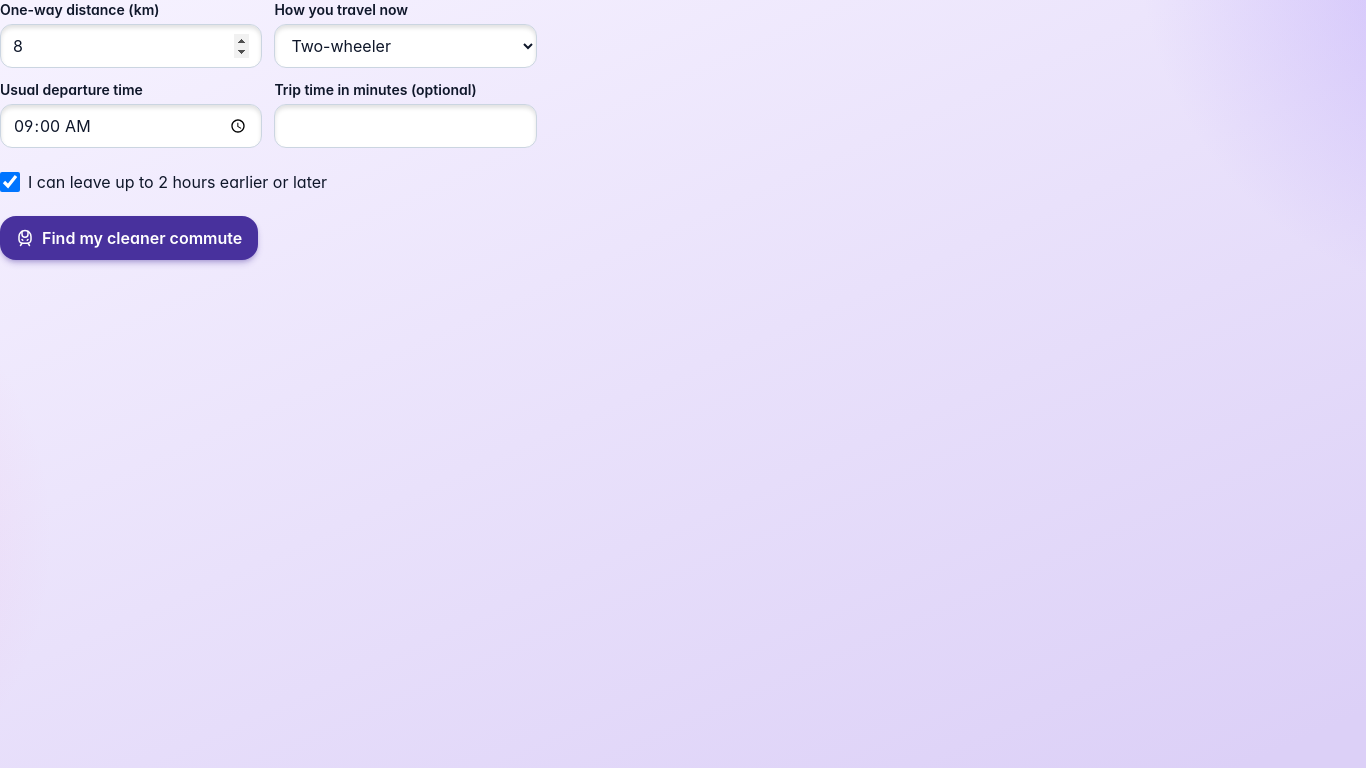
Test: CommutePlanner › recommends a cleaner option, explains the maths and logs impact
The image size is (1366, 768).
Later steps or results of the test are not shown.
Click the button "Find my cleaner commute".
click(129, 238)  # box top-left (0, 216), bottom-right (258, 260)
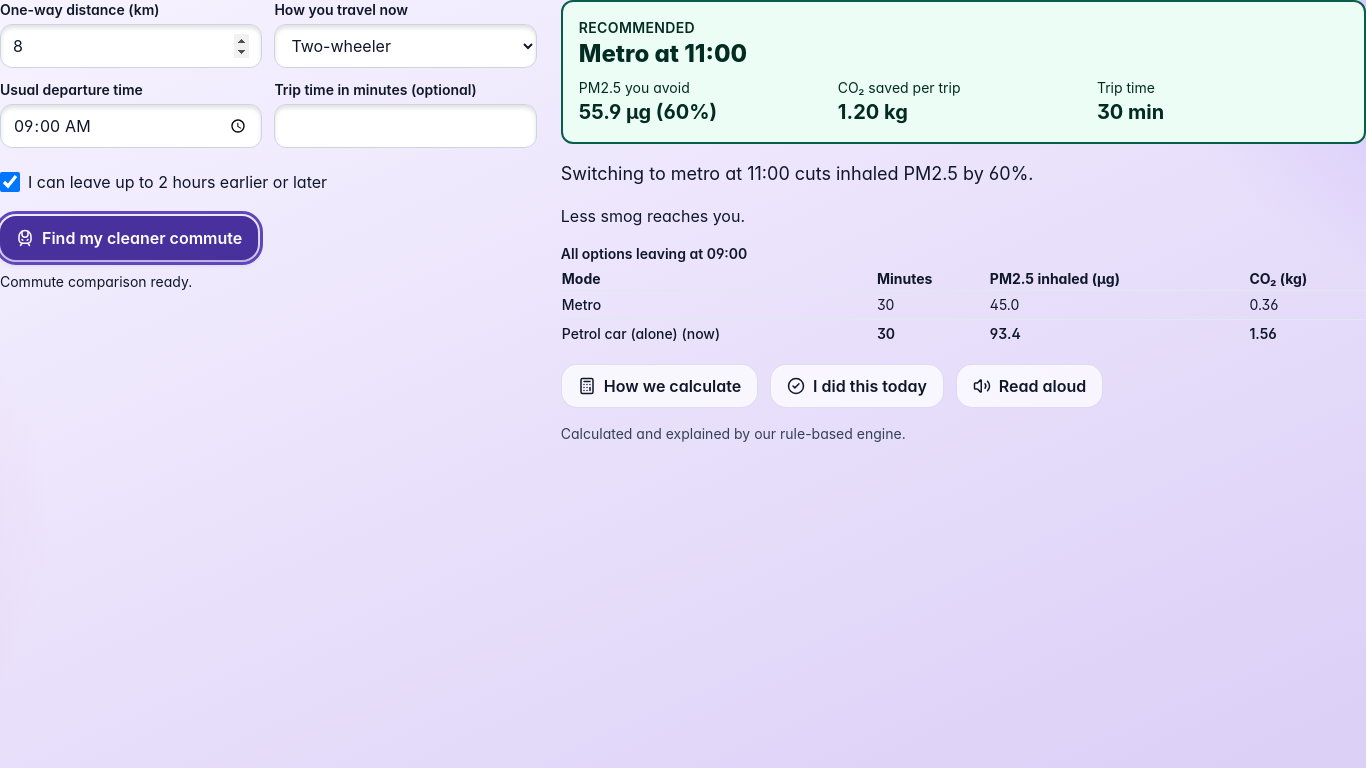
Now the text "Metro at 11:00" is shown, box top-left (579, 39), bottom-right (747, 68)
Now the text "55.9 µg (60%)" is shown, box top-left (579, 100), bottom-right (717, 124)
Click the button "How we calculate".
click(659, 386)  # box top-left (561, 364), bottom-right (758, 408)
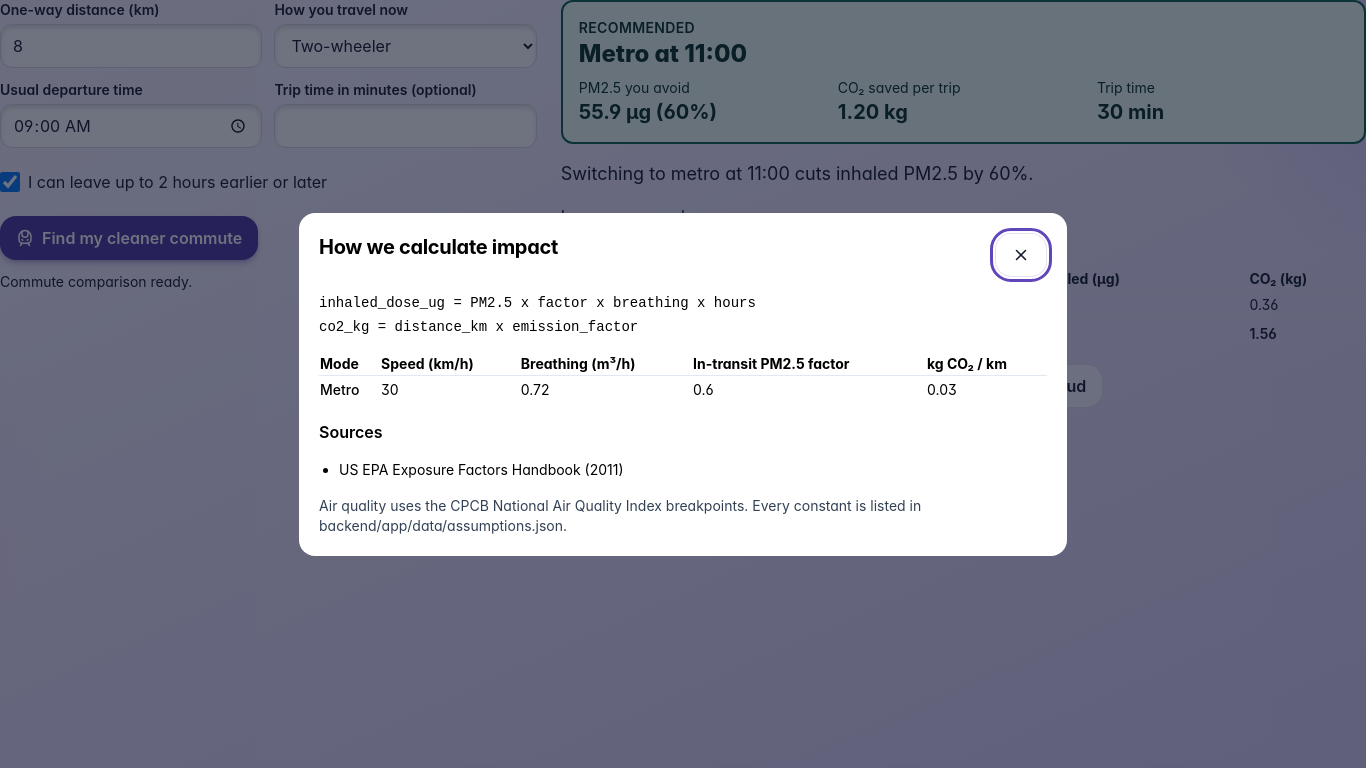
Now the list item "US EPA Exposure Factors Handbook (2011)" is shown, box top-left (339, 460), bottom-right (624, 478)
